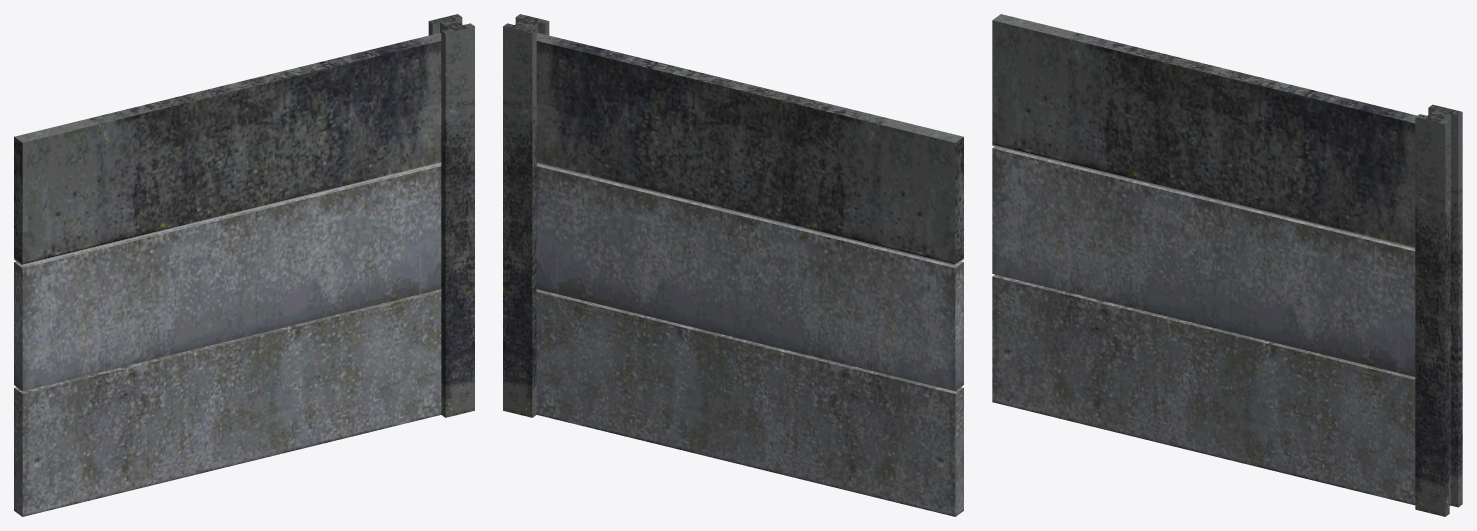
Rendered from Urban_PlackardOpenAlt_Model.fbx.
3 views of the same model, side by side, from view 1: azimuth 30°, elevation 25°; view 2: azimuth 150°, elevation 25°; view 3: azimuth 330°, elevation 25° (orthographic). The views are drawn at different scales.
Parts seen in each view (by area): view 1: Urban_PlackardOpenAlt_Mesh; view 2: Urban_PlackardOpenAlt_Mesh; view 3: Urban_PlackardOpenAlt_Mesh.
Boxes of the visible parts, x1,y1,x2,y2 form: Urban_PlackardOpenAlt_Mesh: (14,14,474,516); Urban_PlackardOpenAlt_Mesh: (503,14,963,516); Urban_PlackardOpenAlt_Mesh: (992,14,1462,516).
Bounding box in the file's own units: 3.05 × 2.5 × 0.2.
